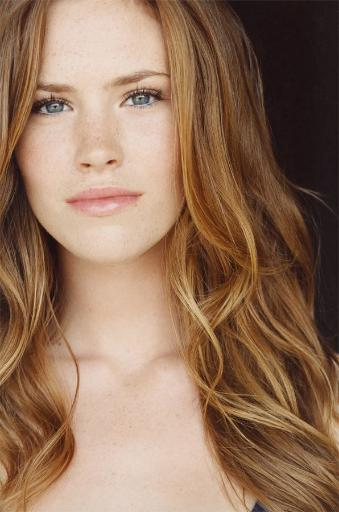left_eye: (118, 90, 165, 117)
left_lip_corner: (132, 188, 147, 206)
right_eye: (33, 101, 74, 125)
right_lip_corner: (65, 195, 79, 213)
